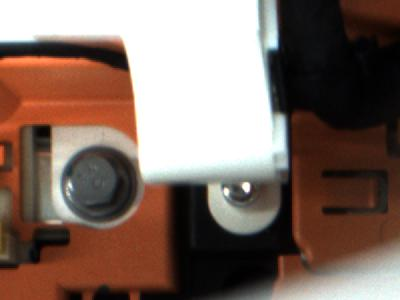nut_b: (58, 148, 142, 222)
